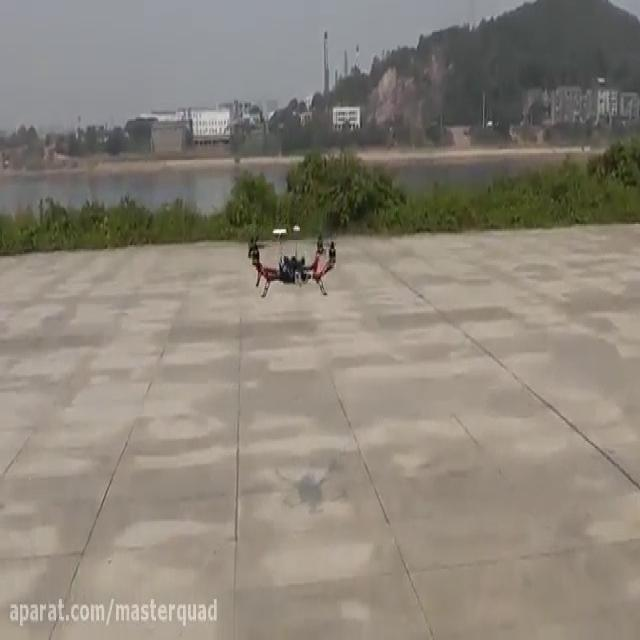drone: (245, 220, 338, 302)
